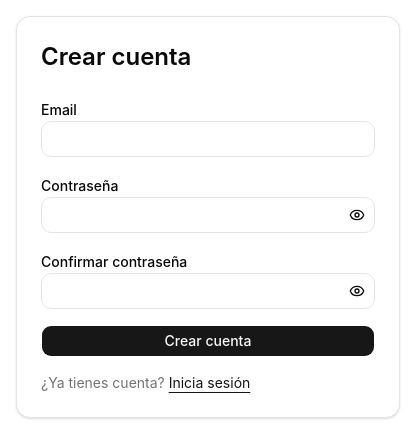
it: auth pages › uses one generic message for every invalid or expired code
Type "person@example.com" into the field labelled "Email" at [208, 139], box [41,121,375,157]
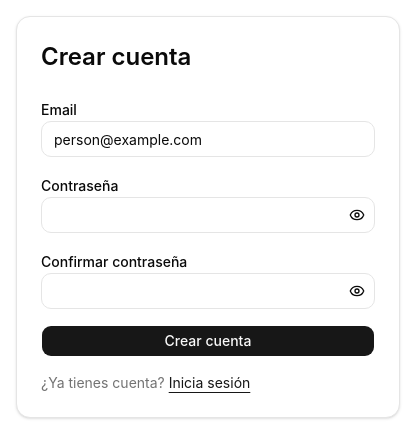
Type "a secure phrase!" into the password field labelled "Contraseña" at [208, 215], box [41,197,375,233]
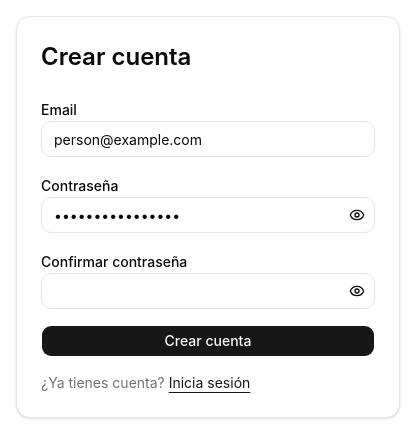
Type "a secure phrase!" into the password field labelled "Confirmar contraseña" at [208, 291], box [41,273,375,309]
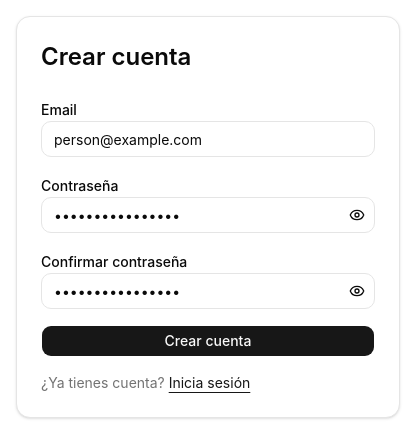
Click the button "Crear cuenta" at [208, 341], box [41,325,375,357]
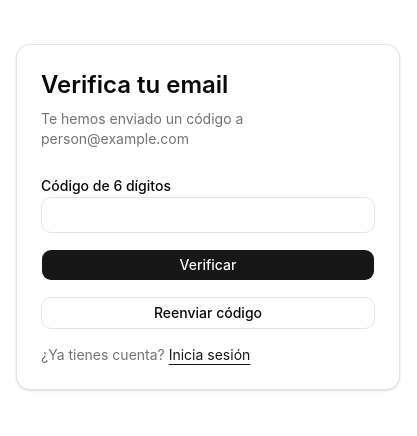
Expected: the heading "Verifica tu email" is shown, [41,70,228,99]
Type "123456" into the field labelled "Código de 6 dígitos" at [208, 215], box [41,197,375,233]
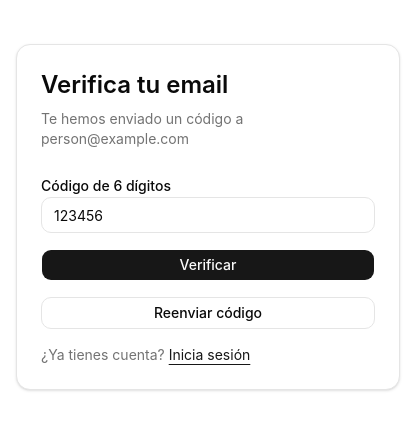
Click the button "Verificar" at [208, 265], box [41,249,375,281]
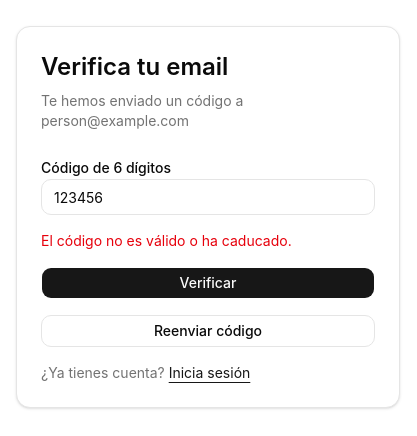
Expected: the text "El código no es válido o ha caducado." is shown, [41,232,292,249]
